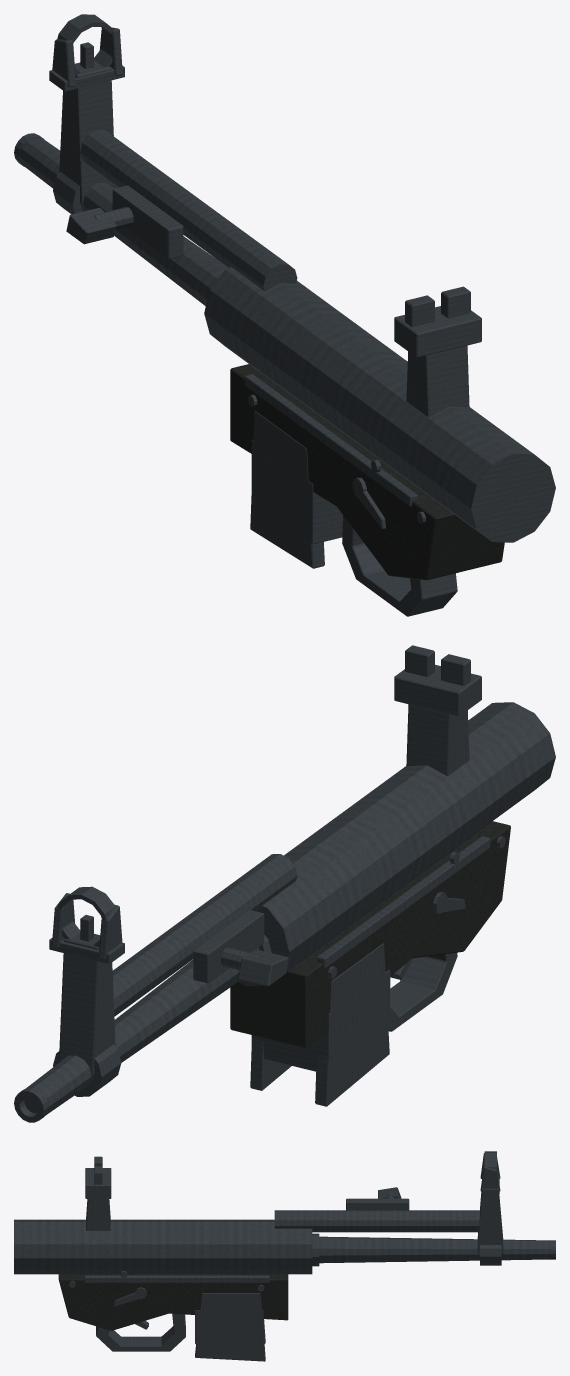
The model's file is weapon_mp5.glb.
The picture shows the model from 3 angles, top to bottom: view 1: azimuth 30°, elevation 25°; view 2: azimuth 150°, elevation 25°; view 3: azimuth 270°, elevation 25°; orthographic projection. The views are drawn at different scales.
Visible parts, largest first — view 1: body_LOD0, action_LOD0; view 2: body_LOD0, action_LOD0; view 3: body_LOD0, action_LOD0.
Part boxes in pixels (<box>): body_LOD0: <box>14,14,555,616</box>; action_LOD0: <box>66,185,183,259</box>; body_LOD0: <box>14,645,555,1122</box>; action_LOD0: <box>193,909,288,986</box>; body_LOD0: <box>14,1151,555,1361</box>; action_LOD0: <box>346,1187,409,1210</box>.
Size of what is drawn, in the model's own units: 0.1355 by 0.3189 by 0.79.
1 material, 1 textured.
